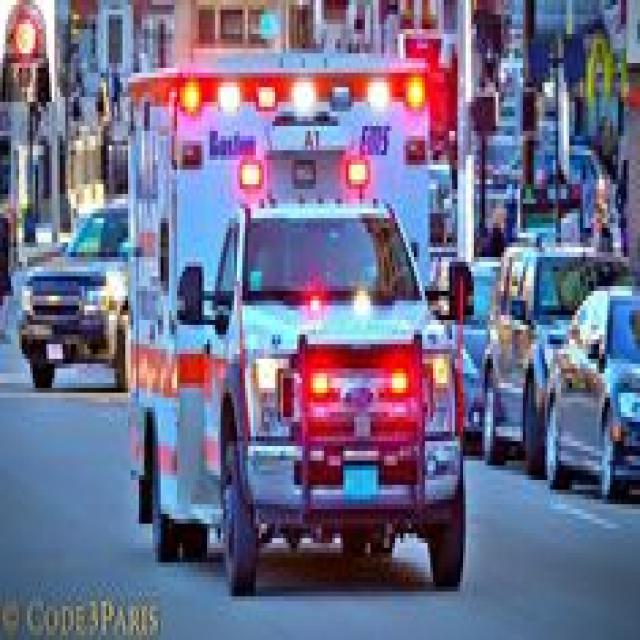ambulance: (125, 64, 468, 576)
